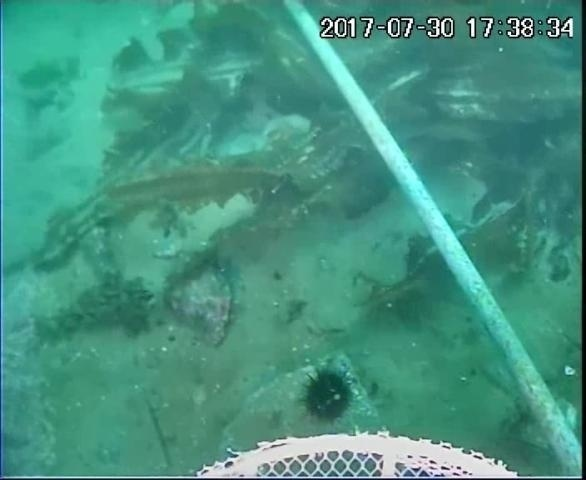echinus: (299, 366, 356, 425)
